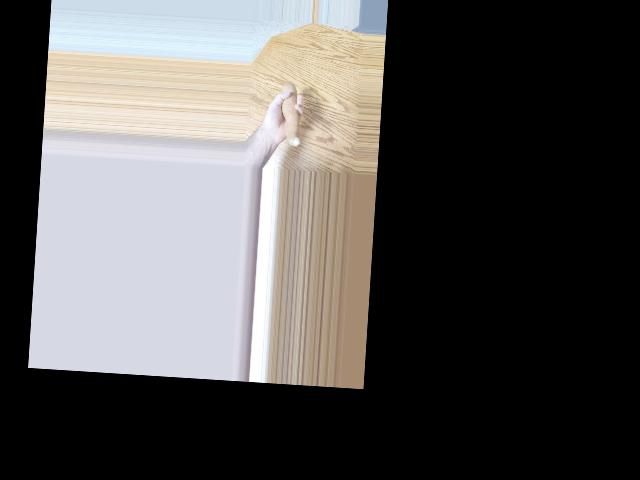sweet_potato: (275, 76, 302, 148)
